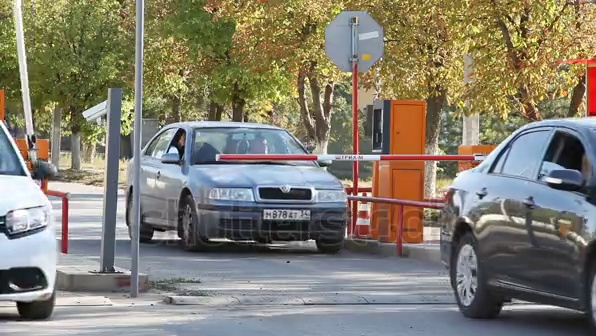licenseplate: (260, 208, 313, 225)
